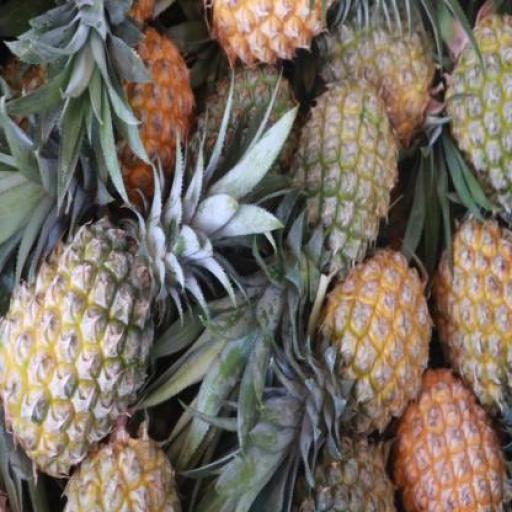------------------------------: (0, 225, 153, 474), (290, 83, 389, 278), (320, 0, 438, 143)
Pineapple - v8 v1: (322, 254, 429, 438), (394, 365, 508, 511), (432, 221, 512, 412)
